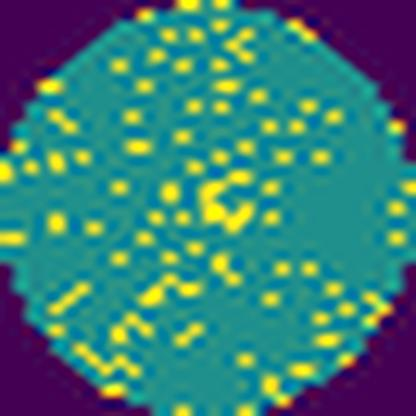Center: (191, 160, 266, 232)
